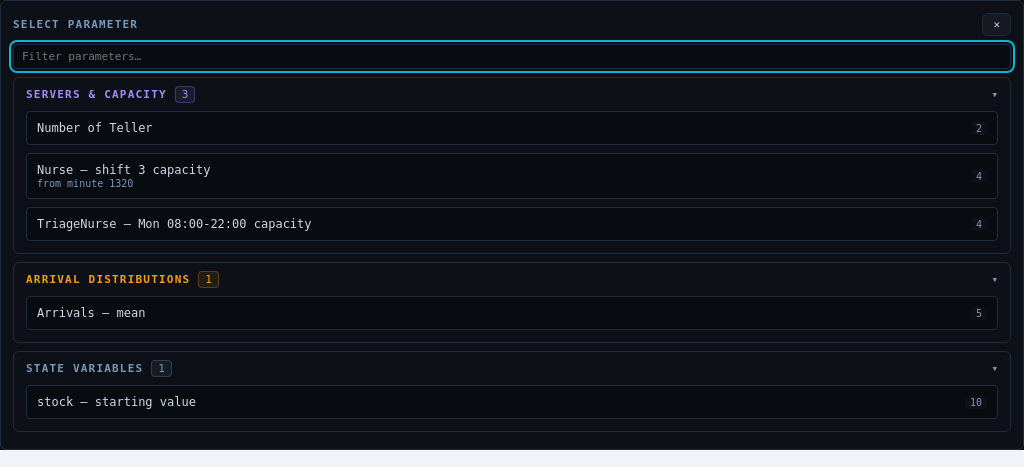
Test: ParamBrowserPanel › an unlimited queue capacity shows as ∞, not Infinity
The width and height of the screenshot is (1024, 467).
Step 1. Type "maximum capacity" into the field with placeholder "Filter parameters…" → (512, 56), box [13,44,1011,69]
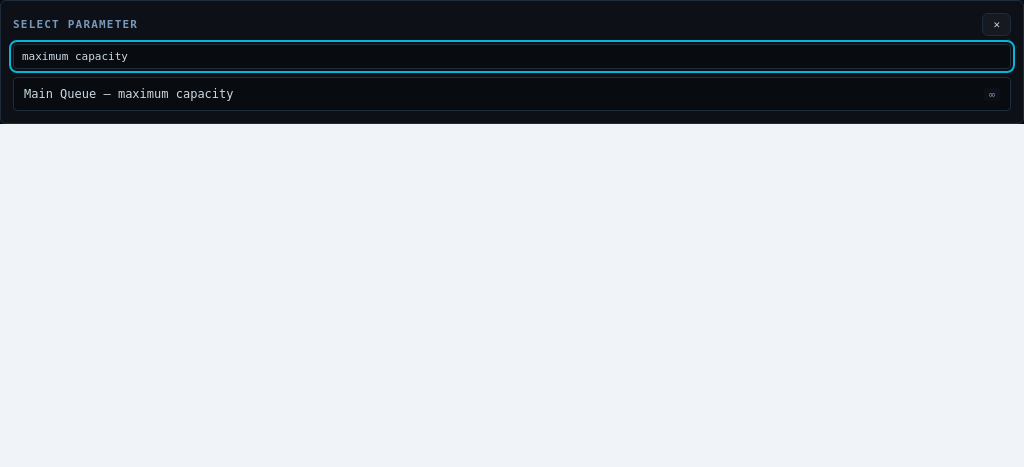
Check: the text "∞" is shown, box [984,88,1000,100]
